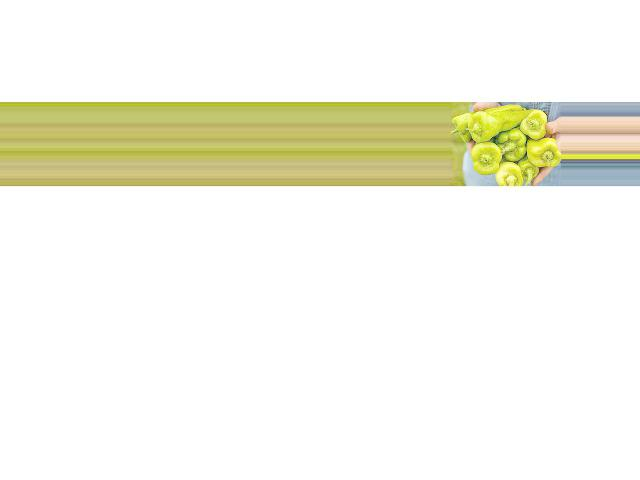bell_pepper: (524, 139, 560, 170)
